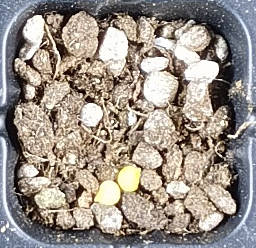chilli seed: (93, 179, 121, 205), (117, 164, 141, 192)
